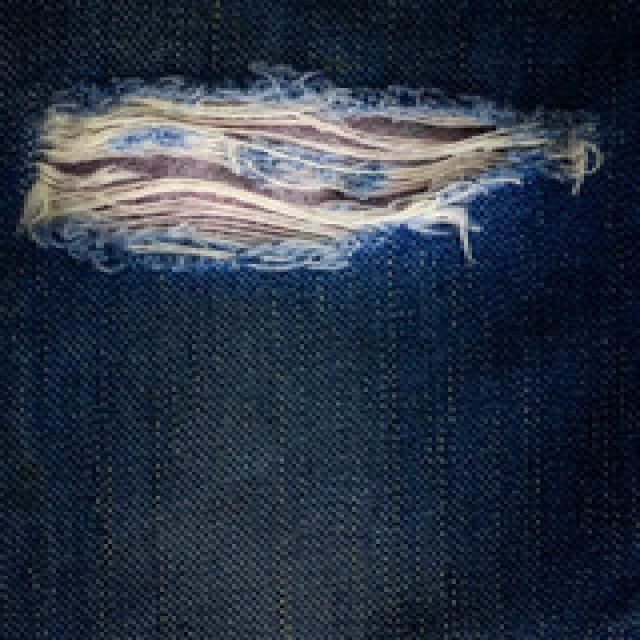Hole: (22, 64, 604, 272)
